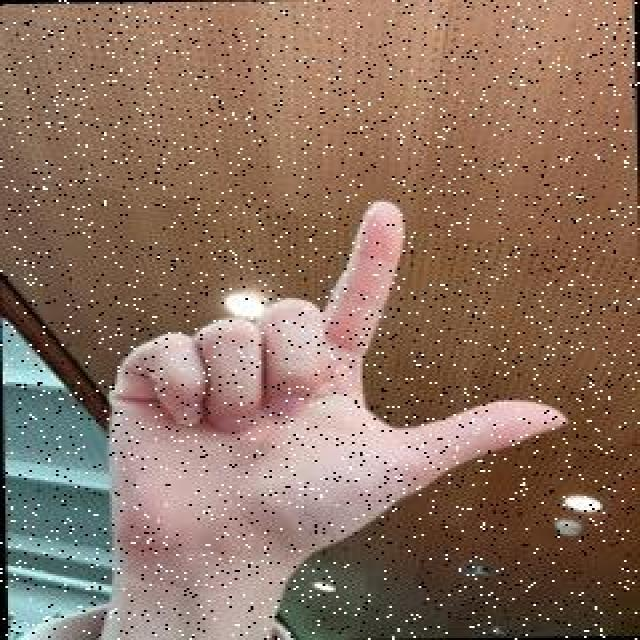L: (91, 192, 581, 574)
